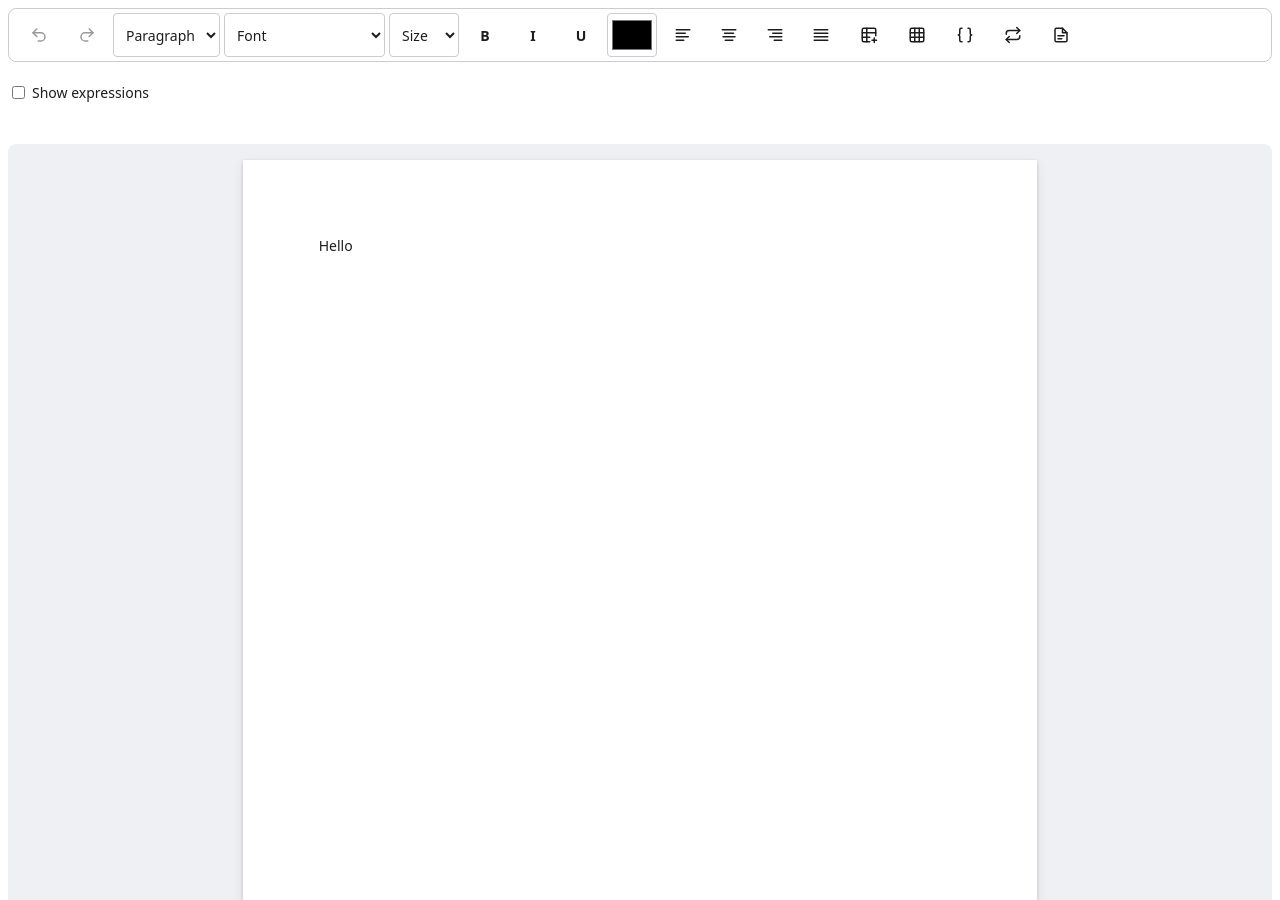
Test: the document editor › shows icons in the toolbar and names each in a tooltip on hover or keyboard focus
Expected: the button named "Insert table" is empty, [847,13,891,57]
Expected: the button named "Table" is empty, [895,13,939,57]
Hover over the button named "Insert field".
mouse_move(965, 35)  # box [943,13,987,57]
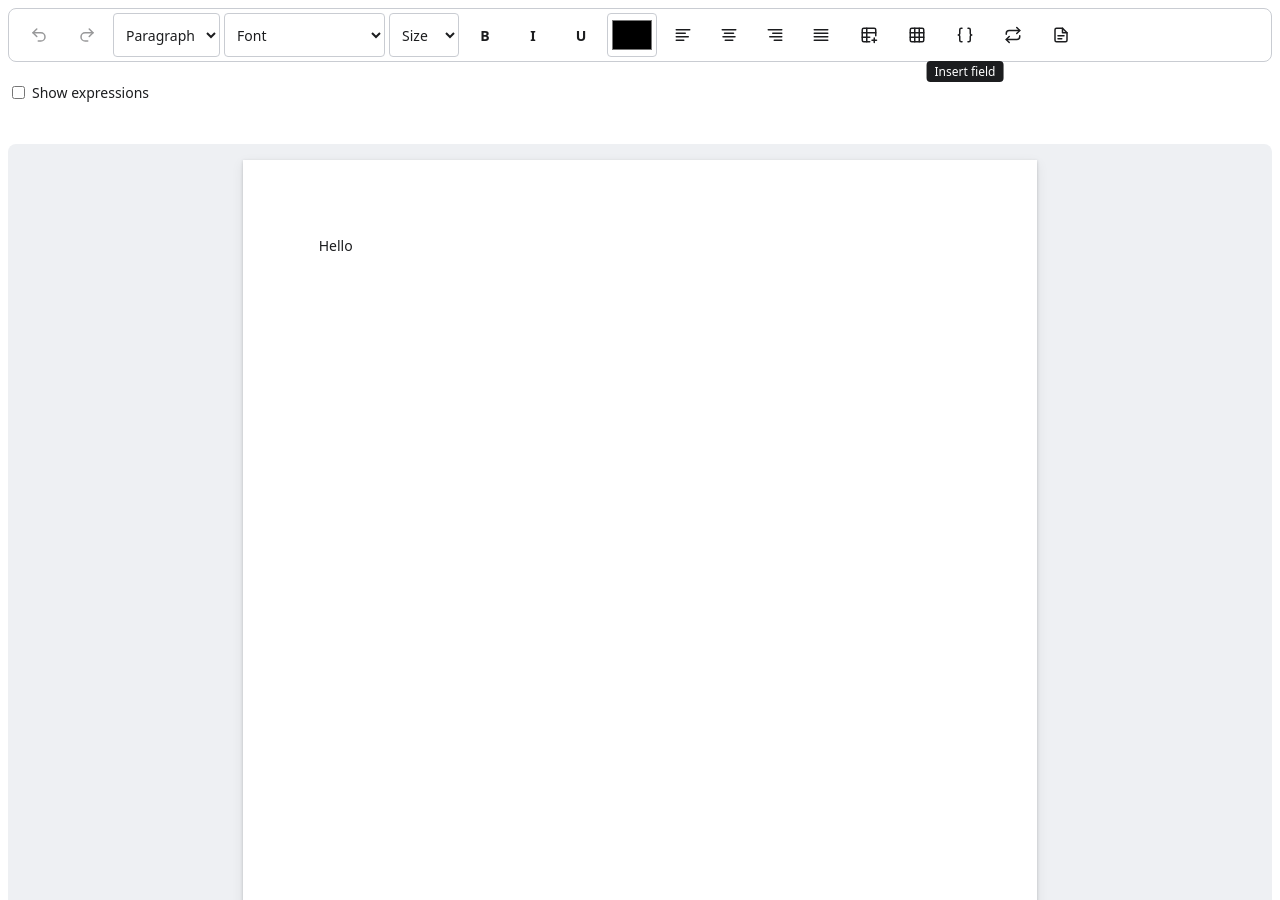
Expected: the text "Insert field" is shown, [927,61,1004,82]
Press Escape
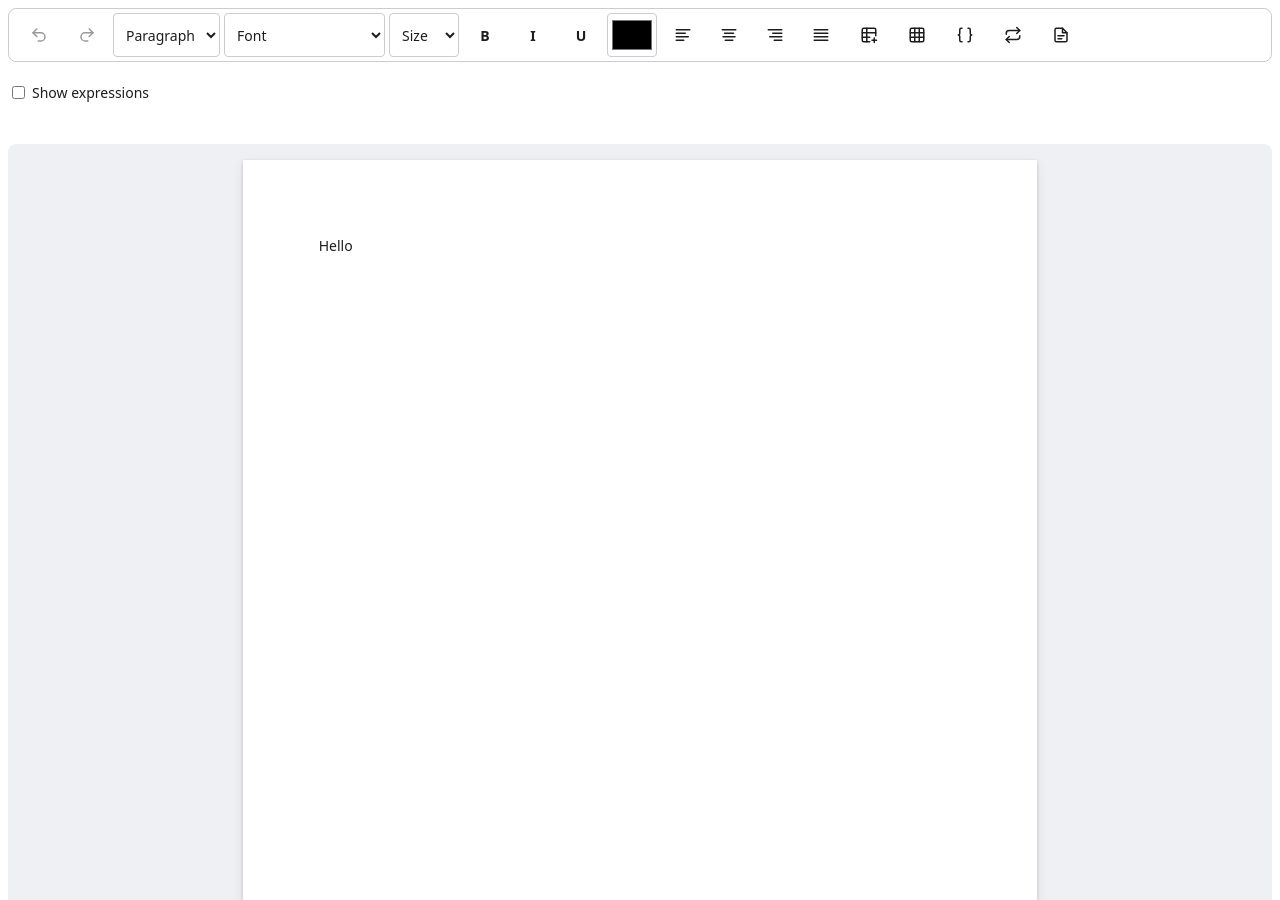
Expected: the text "Insert field" is gone
Click the button named "Insert field".
click(965, 35)  # box [943,13,987,57]
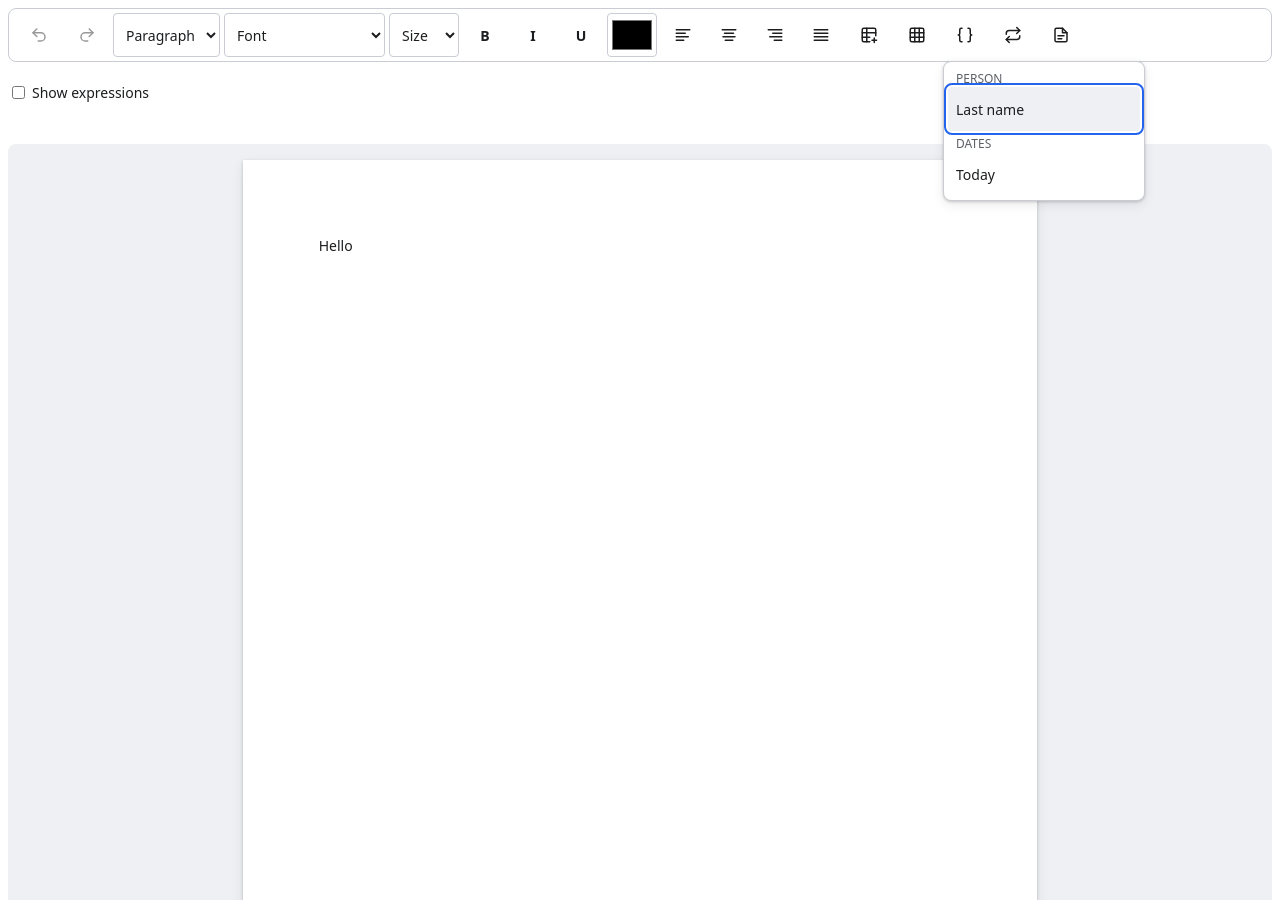
Expected: the text "Insert field" is not shown
Expected: the menu named "Insert field" is shown, [943,61,1145,201]
Press Escape
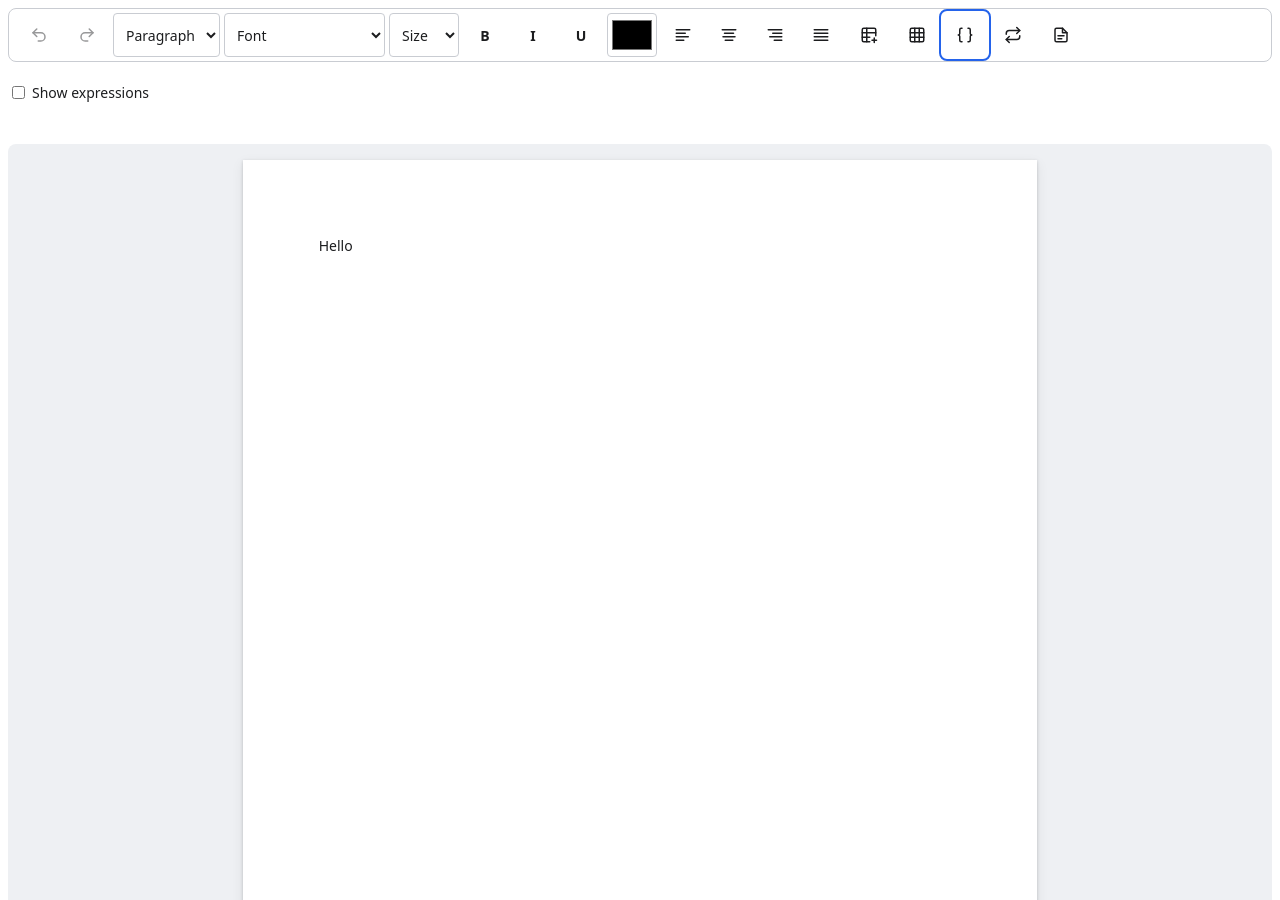
Press Tab
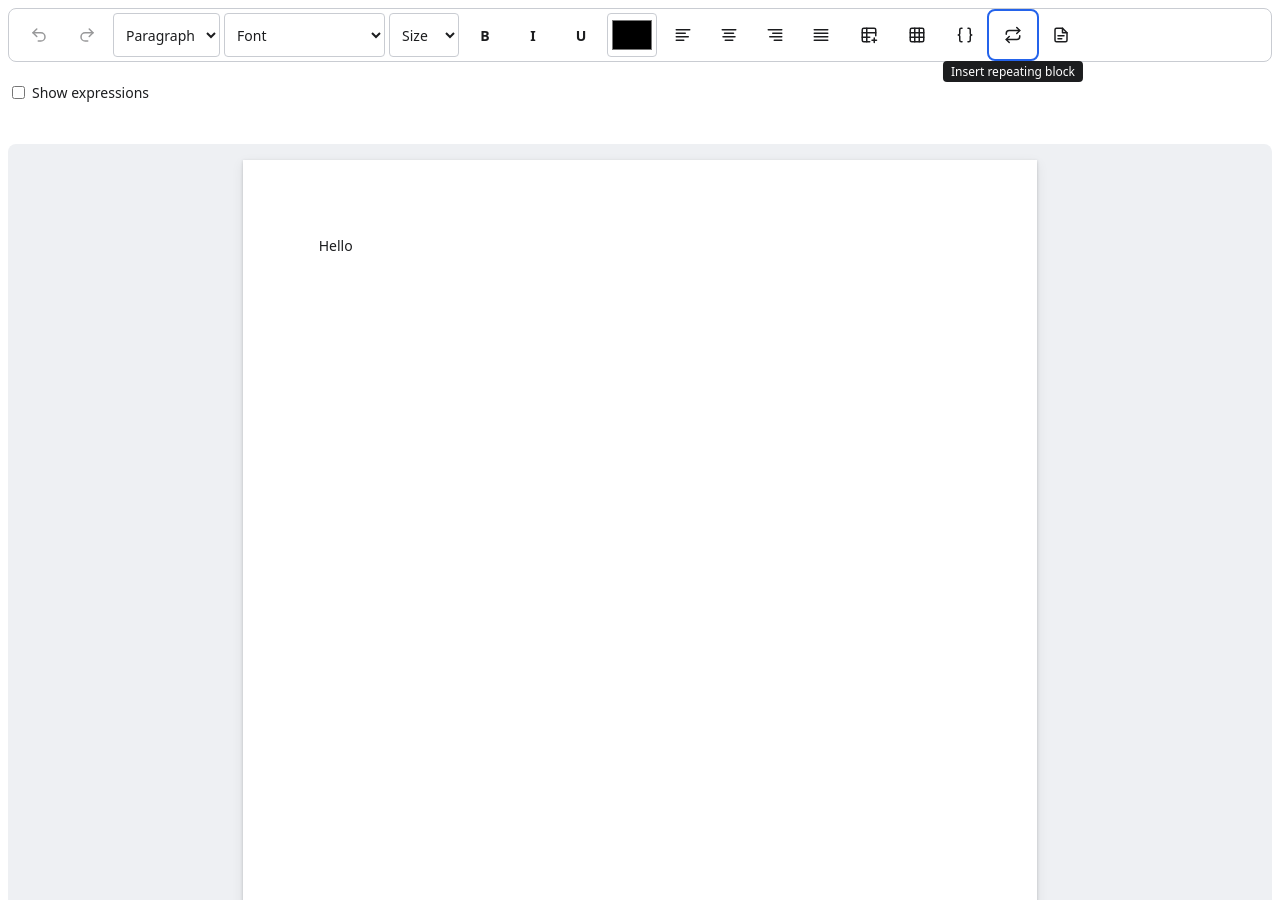
Press Shift+Tab
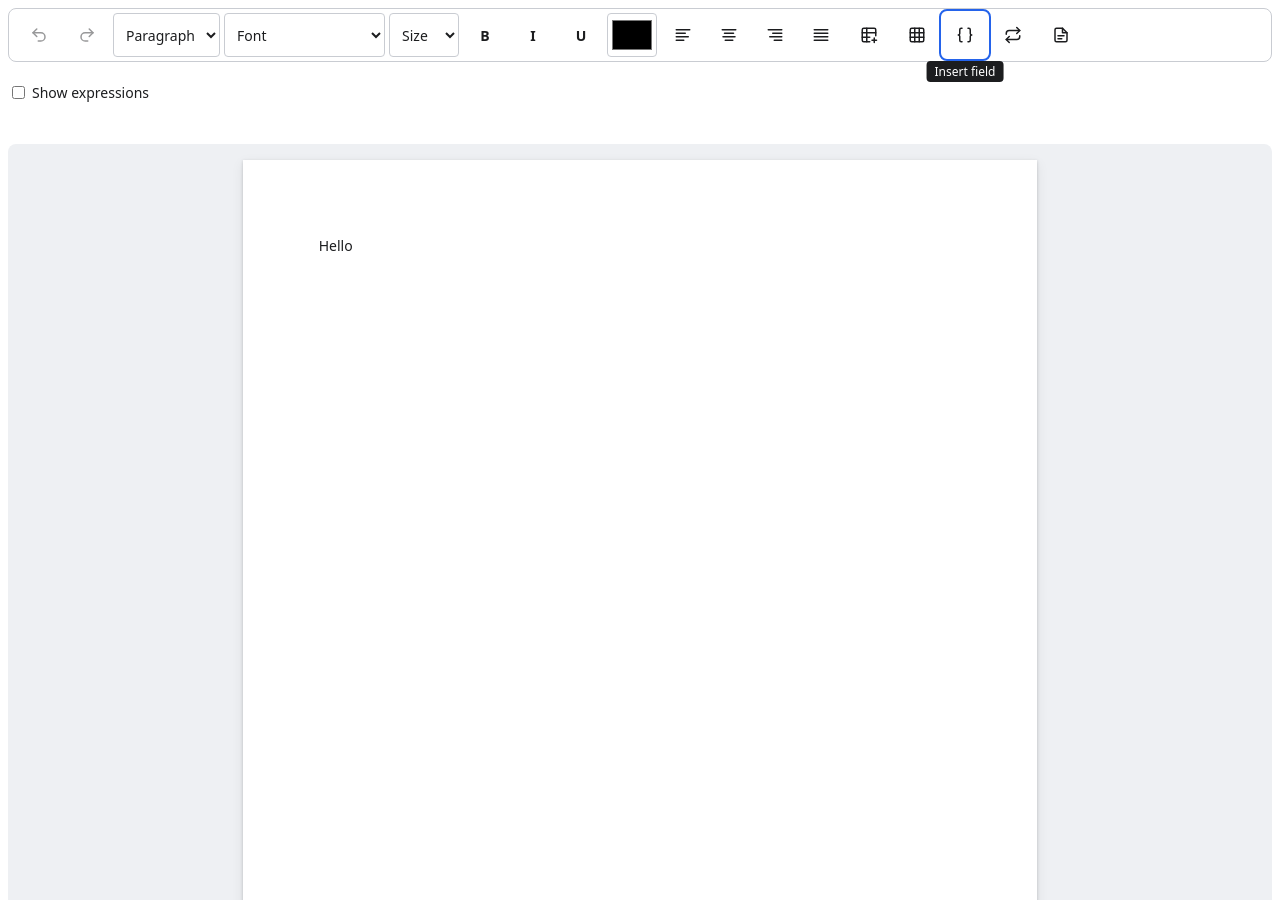
Expected: the text "Insert field" is shown, [927,61,1004,82]
